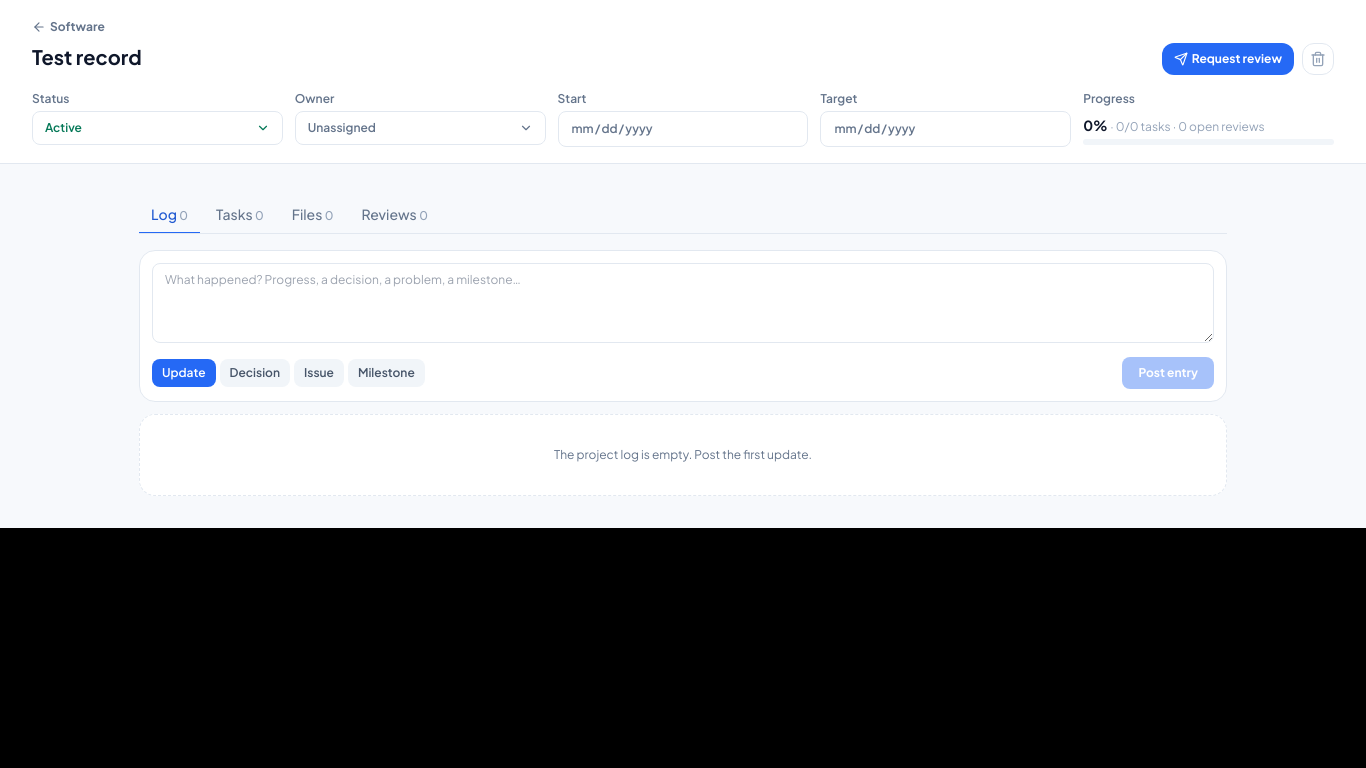
Scenario: persisted grant and project milestones › celebrates project after confirmed save, not initial load or optimistic changes (success=completed)
This screenshot has width=1366, height=768.
Step 1. Click the button "Active" → (157, 128), box [32, 111, 283, 145]
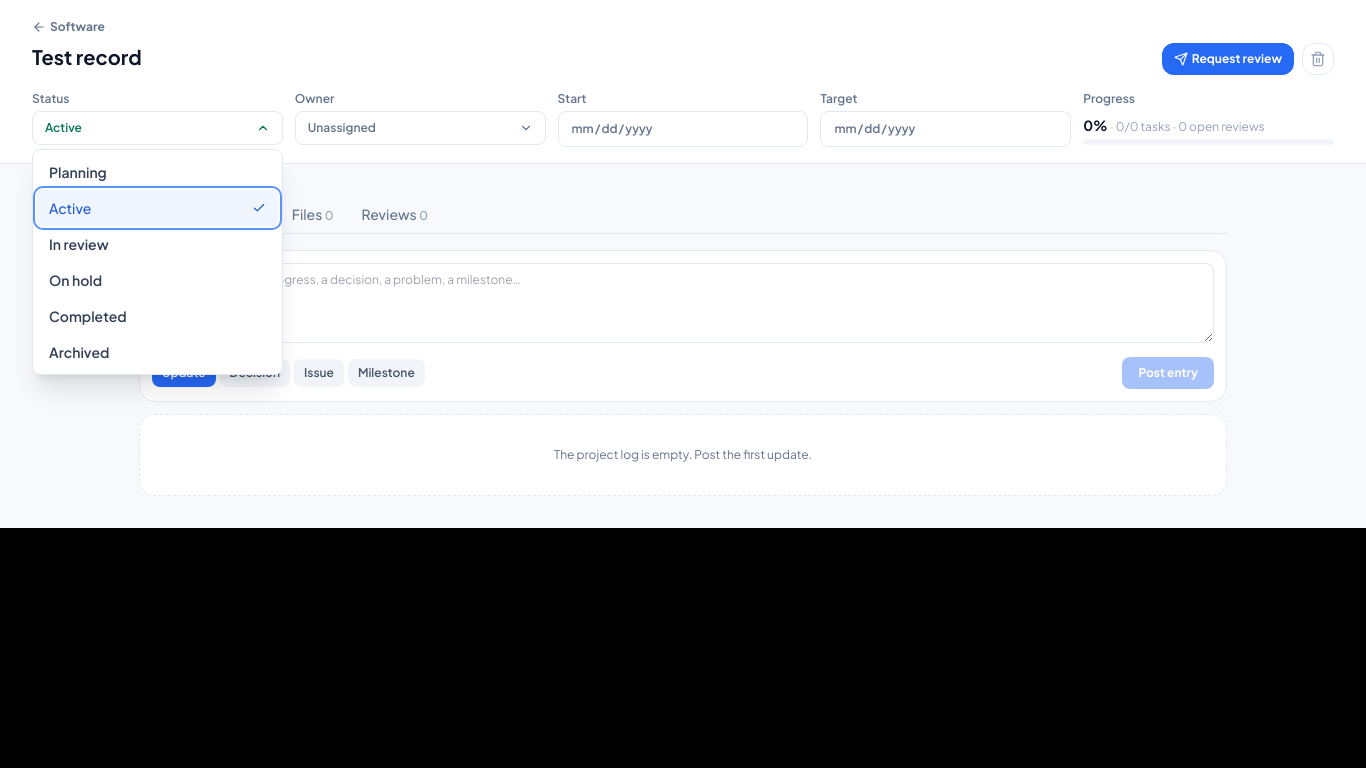
expect the option "Completed" is shown: met
Step 2. Click the option "Completed" → (157, 316), box [37, 298, 278, 334]
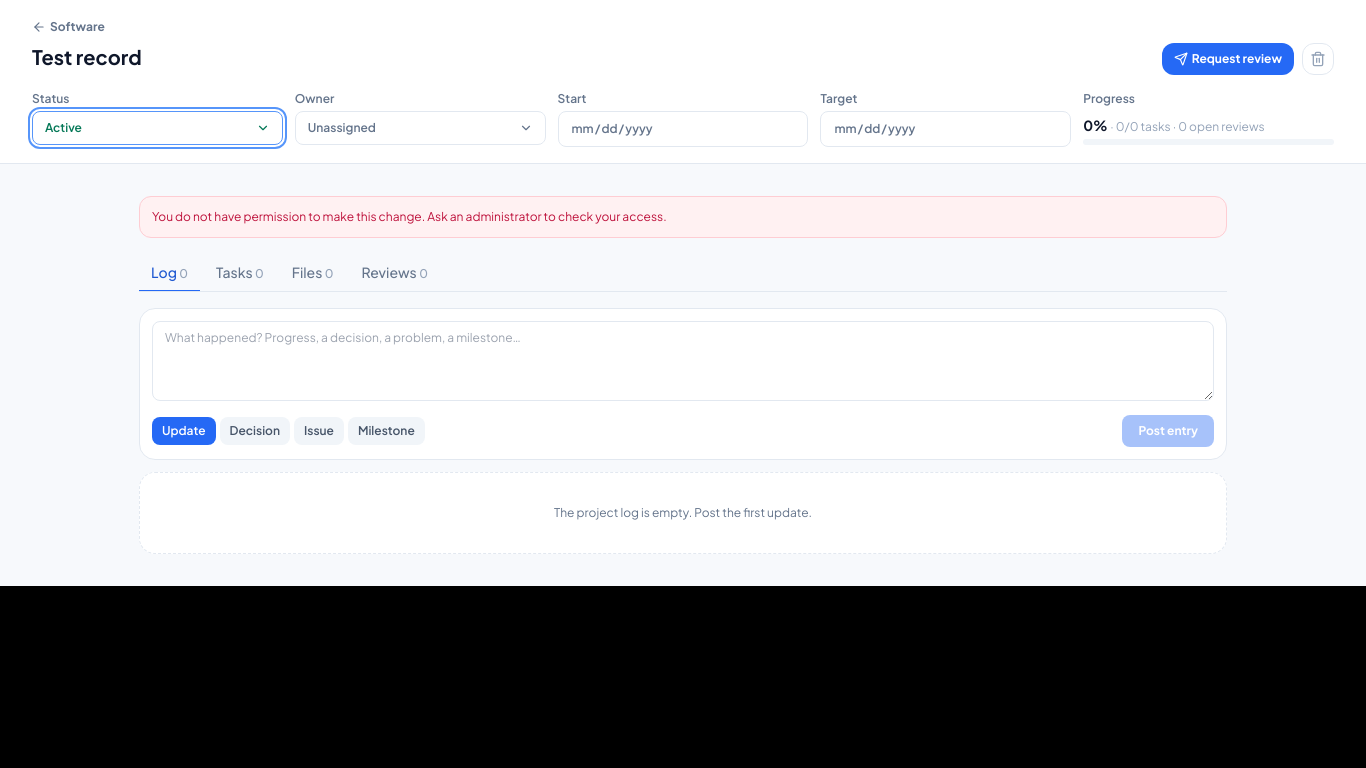
expect the message shows "Ask an administrator": met, box [152, 209, 667, 224]
